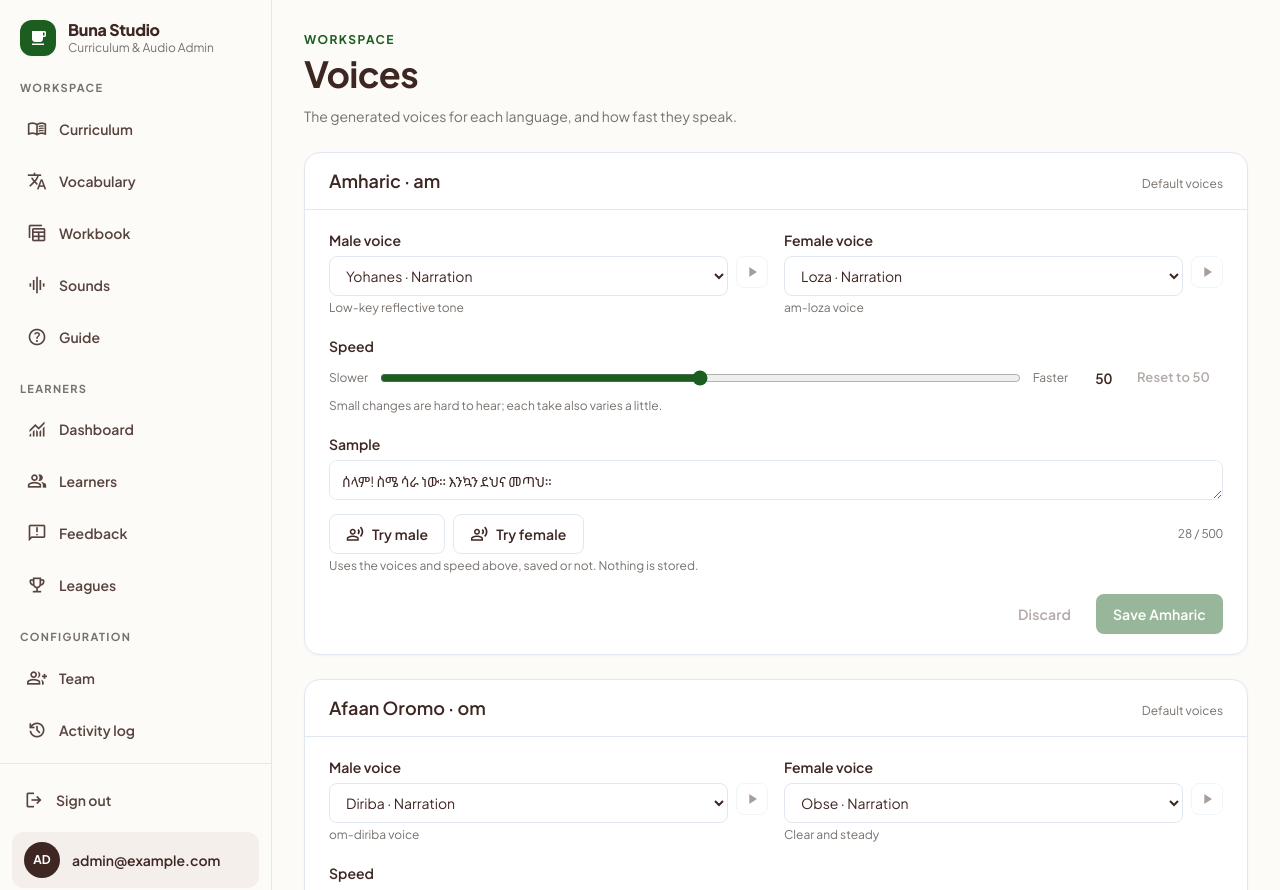
Test: the voices page › saves a language only once something changed, and shows who changed it
Select "Hawi · Educational" in the 2nd dropdown labelled "Female voice": x=984, y=803 left=784, top=783, right=1183, bottom=823
(page scrolled)
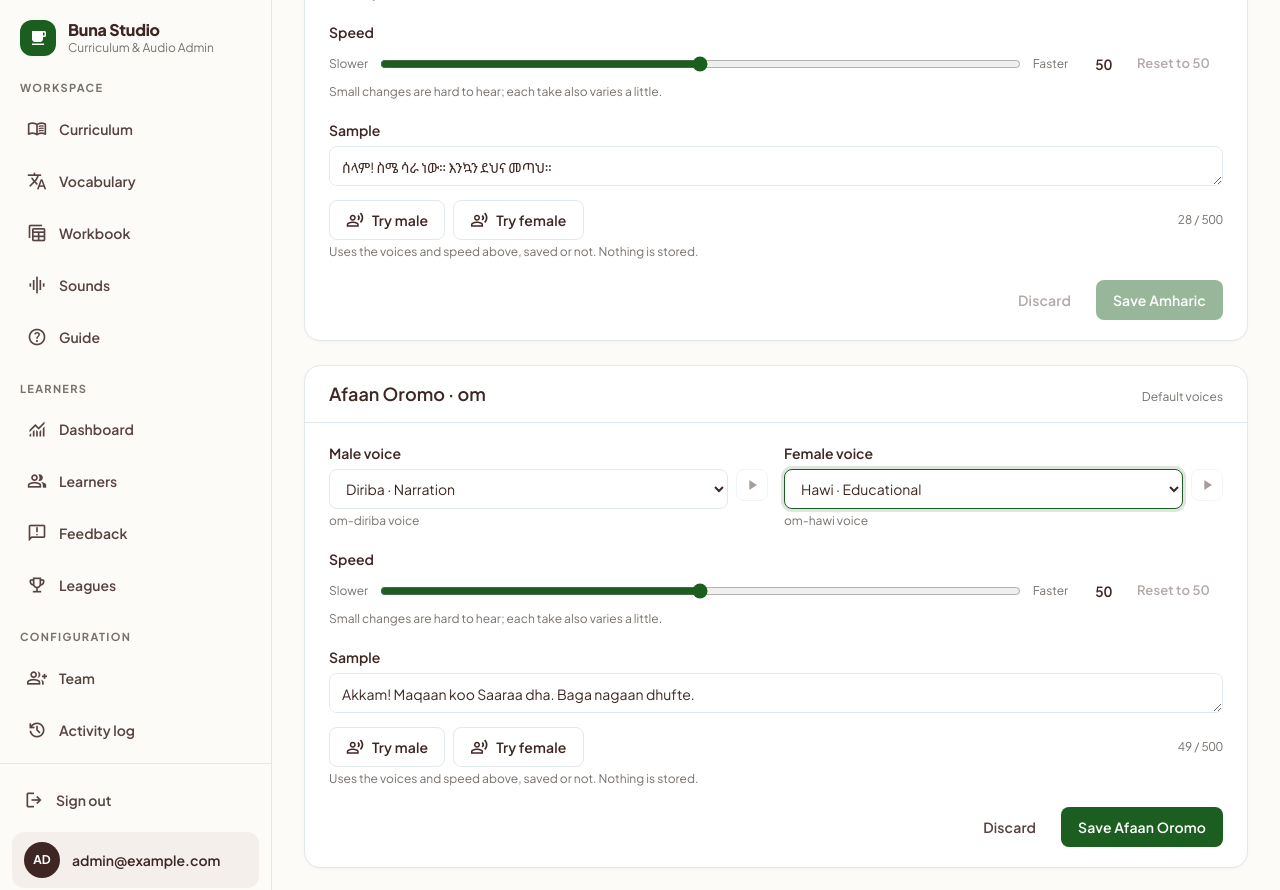
Set the slider labelled "Speed" below "om-diriba voice" to "40": x=638, y=591 left=380, top=583, right=1021, bottom=599
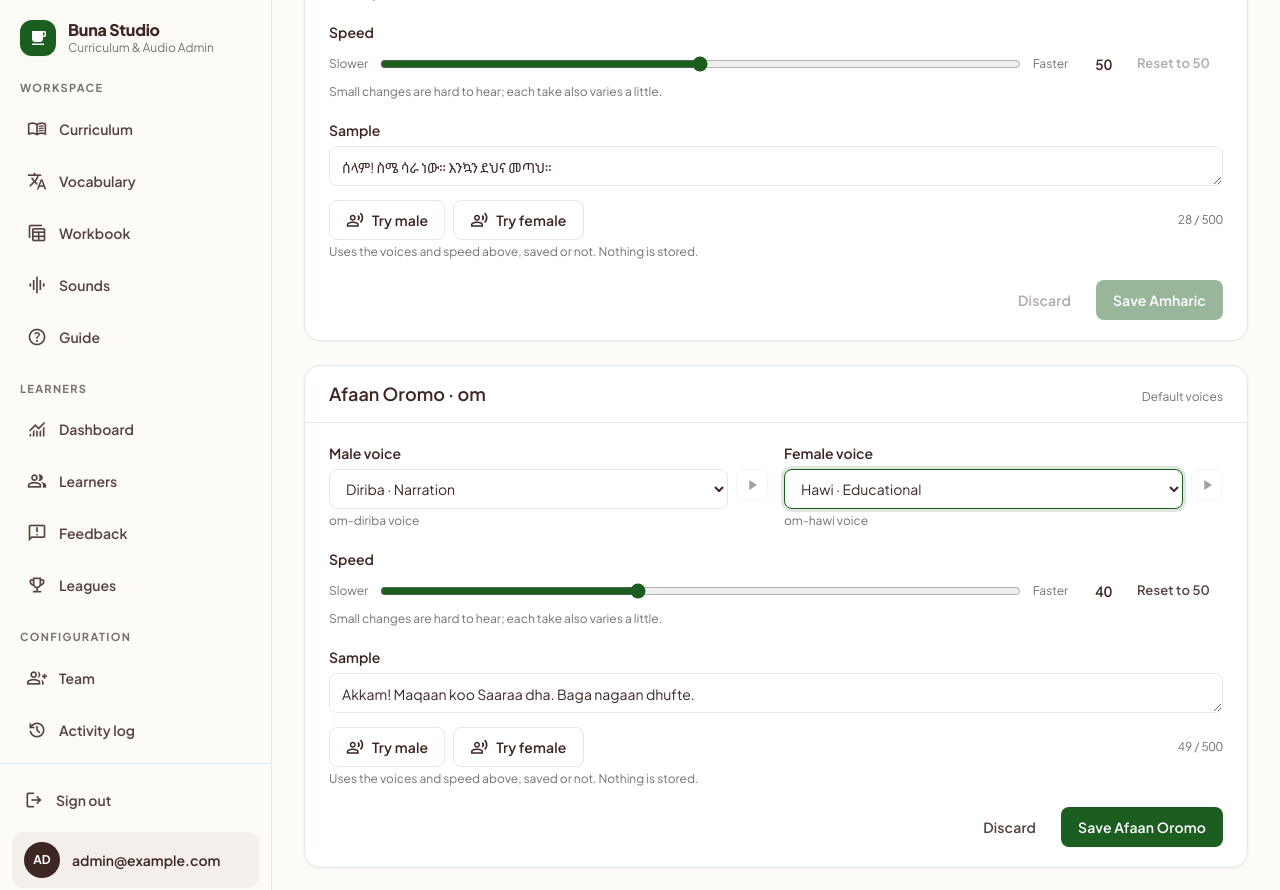
Click the button "Save Afaan Oromo": x=1142, y=827 left=1061, top=807, right=1223, bottom=847
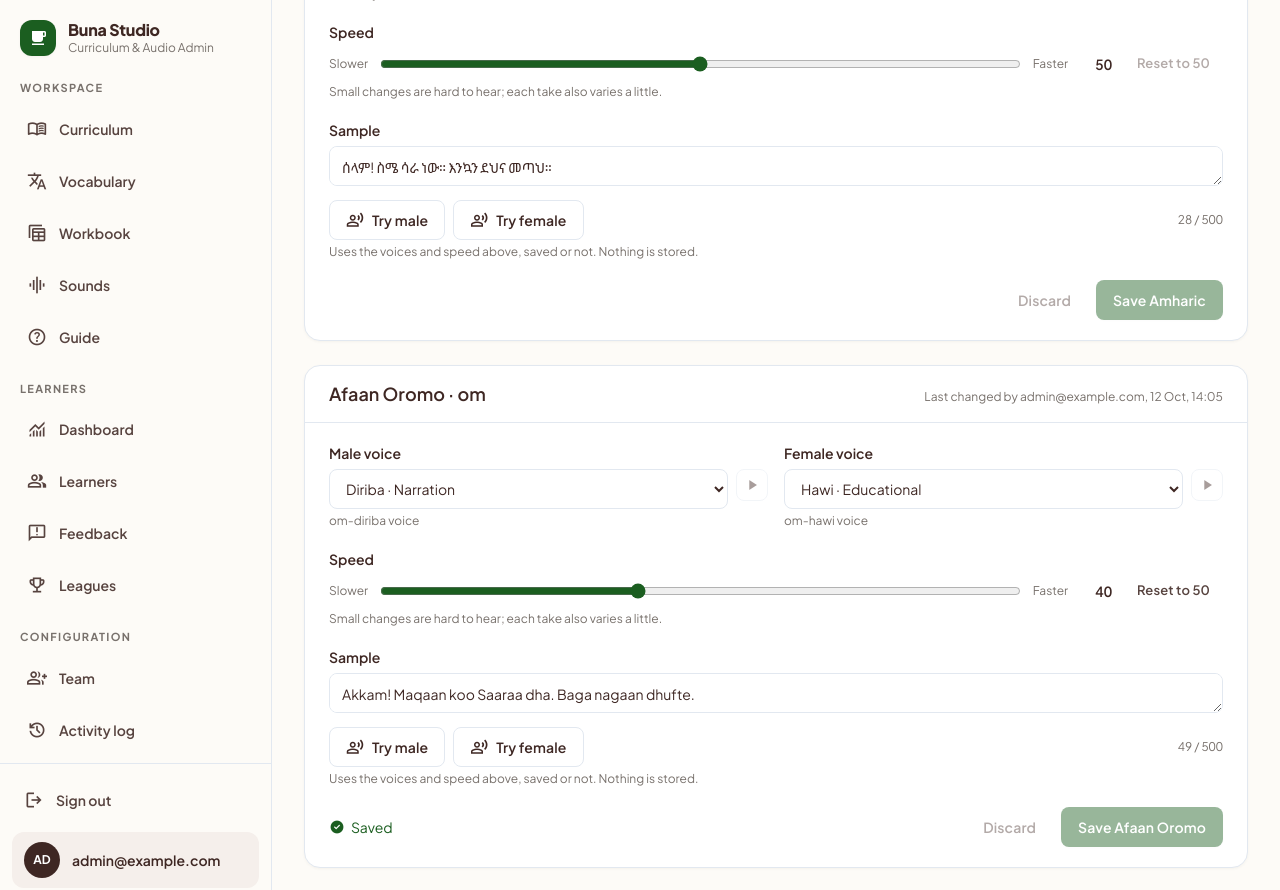
Expected: the text "Saved" is shown, left=329, top=815, right=393, bottom=839
Expected: the text "Last changed by admin@example.com, 12 Oct, 14:05" is shown, left=924, top=389, right=1223, bottom=405
Expected: the button "Save Afaan Oromo" is disabled, left=1061, top=807, right=1223, bottom=847
